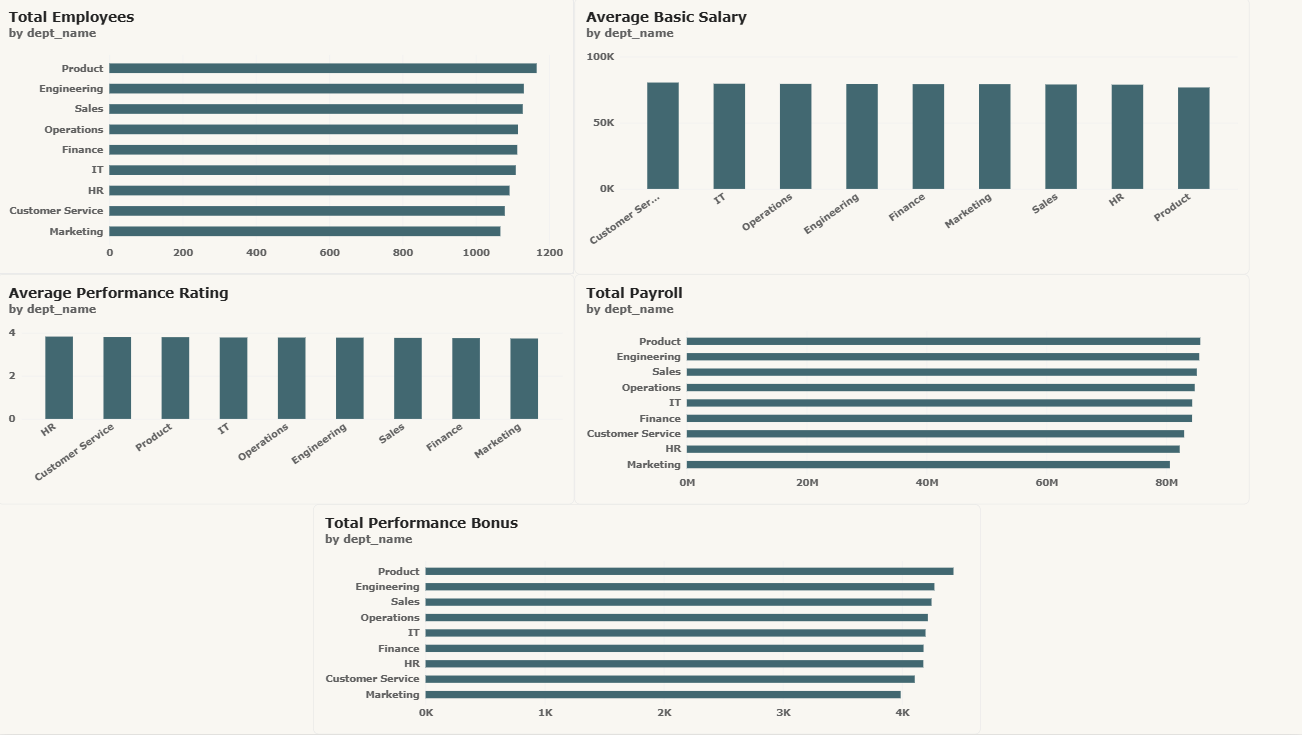

The page's visual inventory and layout, read from the dashboard file:
{"tool":"powerbi","page":{"name":"Department Performance","canvas":[1920,1080],"ordinal":1},"visuals":[{"type":"clusteredBarChart","fields":{"Category":["DimDepartment.dept_name"],"Y":["emp_info.Total Employees"]},"box":[0,0,847.4,405.4],"z":0},{"type":"clusteredColumnChart","fields":{"Category":["DimDepartment.dept_name"],"Y":["emp_salary.Average Basic Salary"]},"box":[847.4,0,990.5,405.4],"z":1000},{"type":"clusteredBarChart","fields":{"Category":["DimDepartment.dept_name"],"Y":["emp_salary.Total Payroll"]},"box":[847.4,405.4,990.5,337.5],"z":2000},{"type":"clusteredColumnChart","fields":{"Category":["DimDepartment.dept_name"],"Y":["emp_salary.Average Performance Rating"]},"box":[0,405.4,847.4,337.5],"z":3000},{"type":"clusteredBarChart","fields":{"Category":["DimDepartment.dept_name"],"Y":["emp_salary.Total Performance Bonus"]},"box":[464.1,742.9,979.5,337.5],"z":4000}]}

Visuals, with their boxes in screenshot pixels (x1, y1, x2, y2), scaled from the page's 1920x1080 canvas onto the 1302x735 screenshot:
clusteredBarChart - DimDepartment.dept_name x emp_info.Total Employees: [0, 0, 575, 276]
clusteredColumnChart - DimDepartment.dept_name x emp_salary.Average Basic Salary: [575, 0, 1246, 276]
clusteredBarChart - DimDepartment.dept_name x emp_salary.Total Payroll: [575, 276, 1246, 506]
clusteredColumnChart - DimDepartment.dept_name x emp_salary.Average Performance Rating: [0, 276, 575, 506]
clusteredBarChart - DimDepartment.dept_name x emp_salary.Total Performance Bonus: [315, 506, 979, 734]
